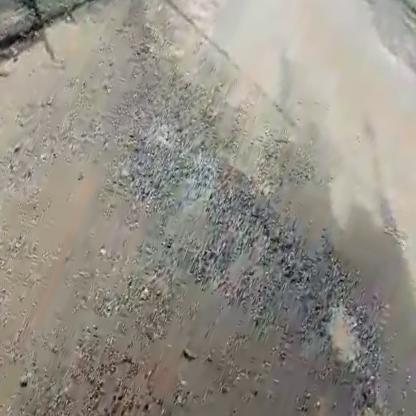pothole: (315, 293, 380, 370)
